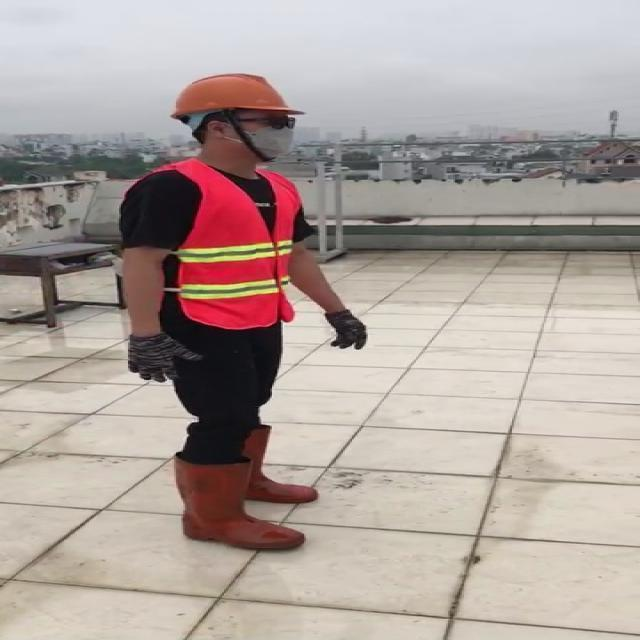gloves: (124, 330, 202, 383), (321, 308, 368, 350)
goggles: (222, 114, 296, 131)
helmet: (171, 71, 306, 120)
safety_vest: (175, 164, 300, 327)
